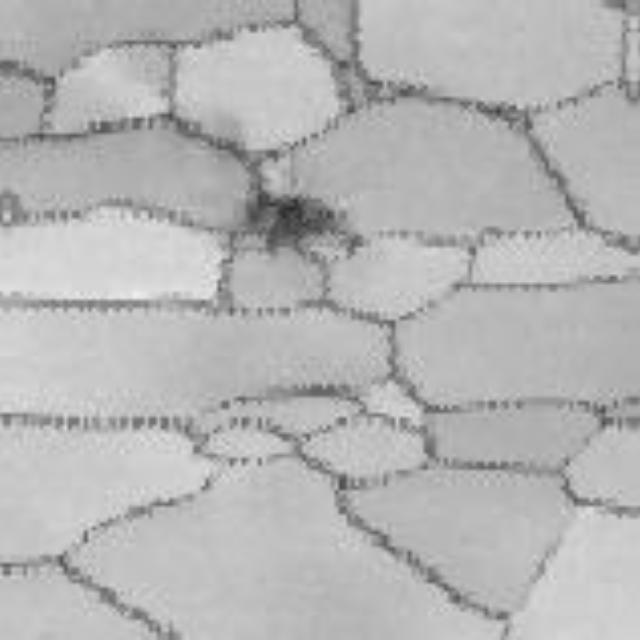good_void: (245, 182, 364, 258)
